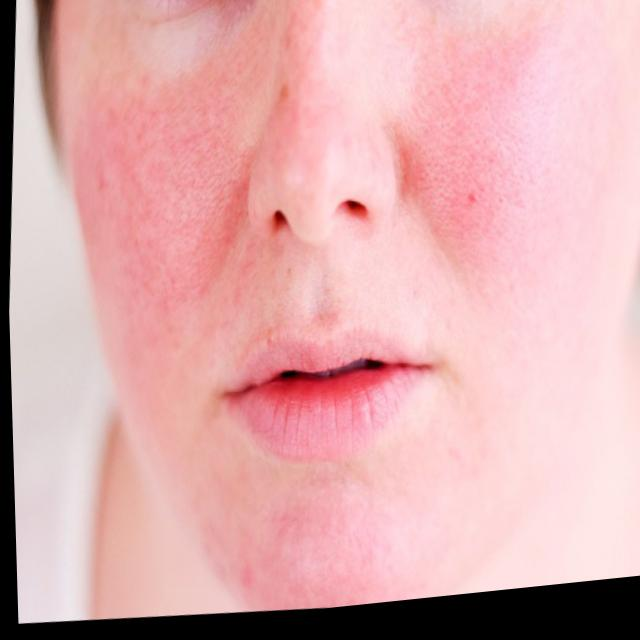skinredness: (66, 46, 289, 322), (393, 0, 577, 294)
